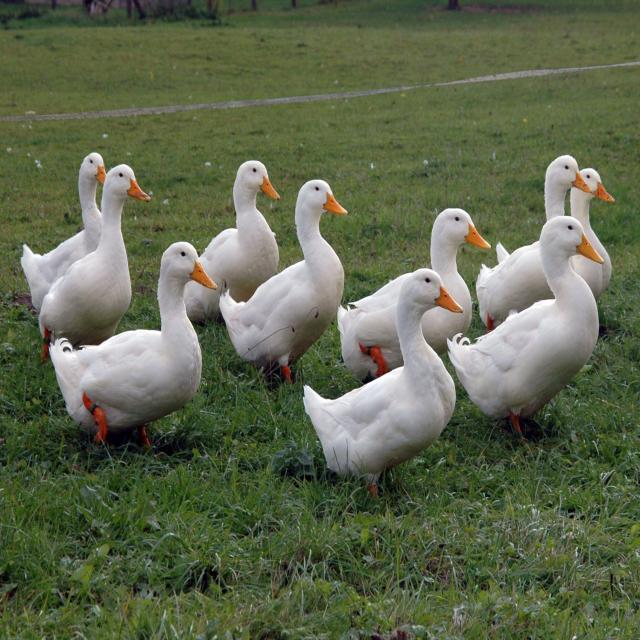Duck: (294, 262, 462, 496), (447, 196, 608, 428), (47, 232, 219, 445), (211, 180, 354, 390), (4, 150, 159, 336), (338, 198, 492, 368), (175, 142, 298, 300), (489, 157, 618, 300), (9, 140, 122, 296), (482, 146, 587, 303)
